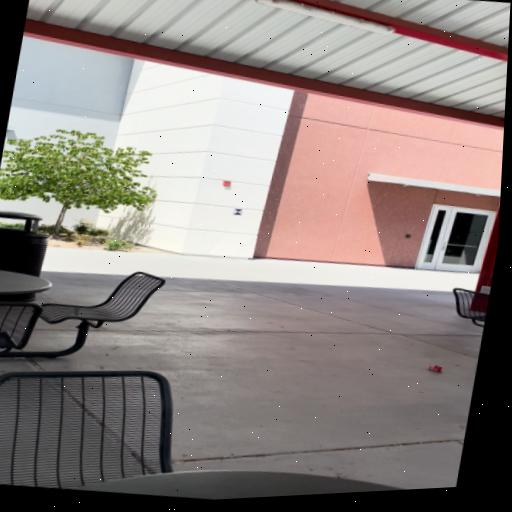target2: (232, 208, 244, 216)
